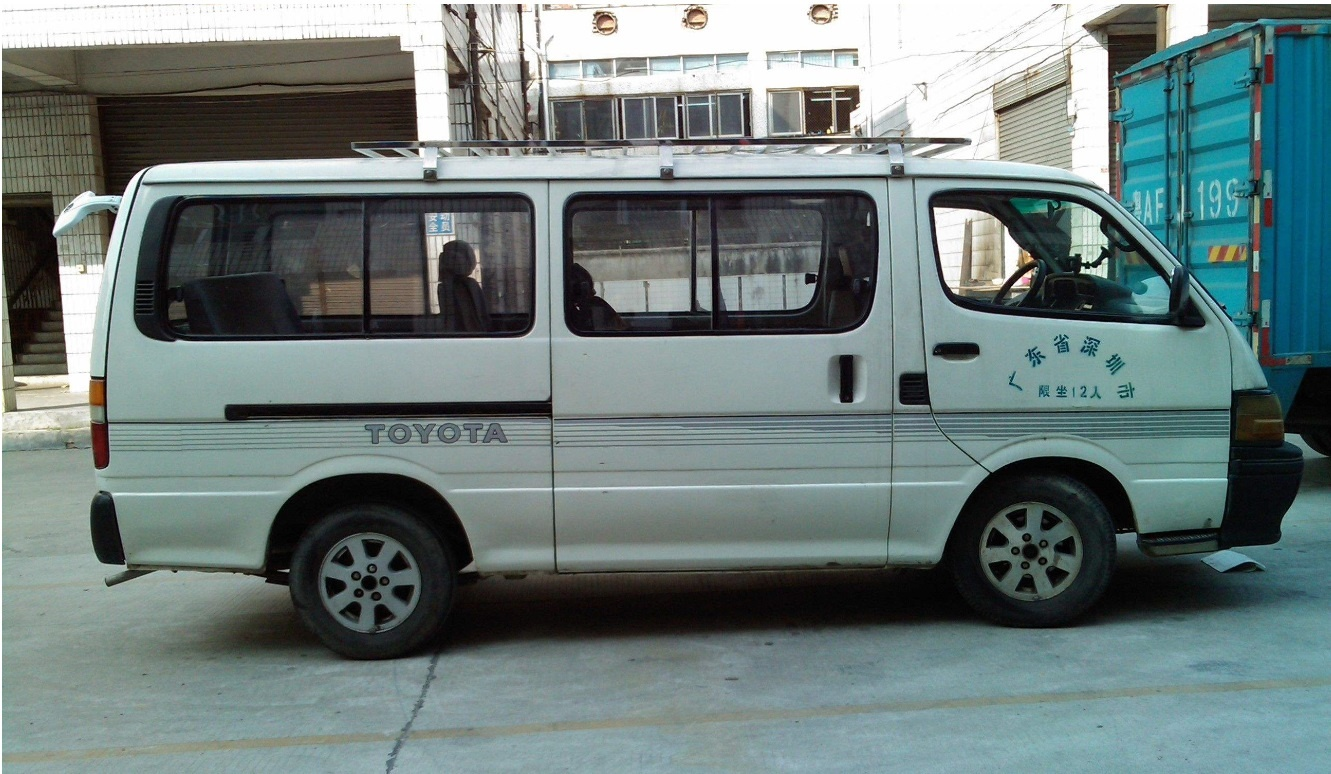minibus: (51, 123, 1297, 634)
